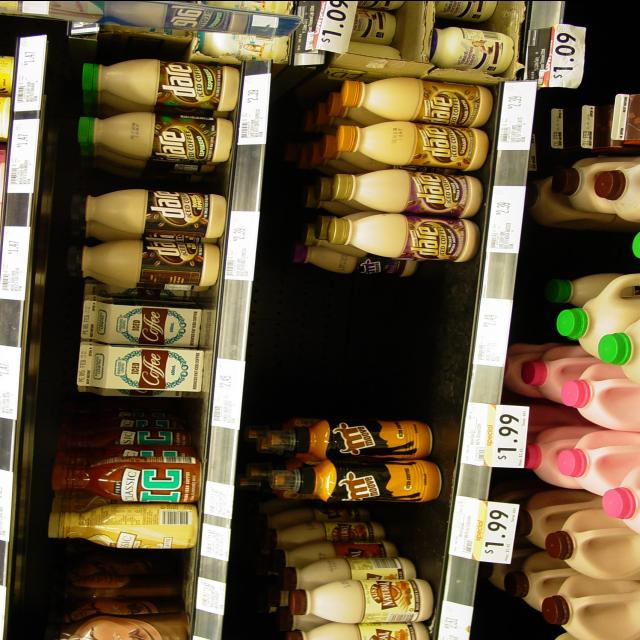empty_space: (271, 283, 457, 405), (53, 550, 185, 582), (67, 397, 185, 419)
